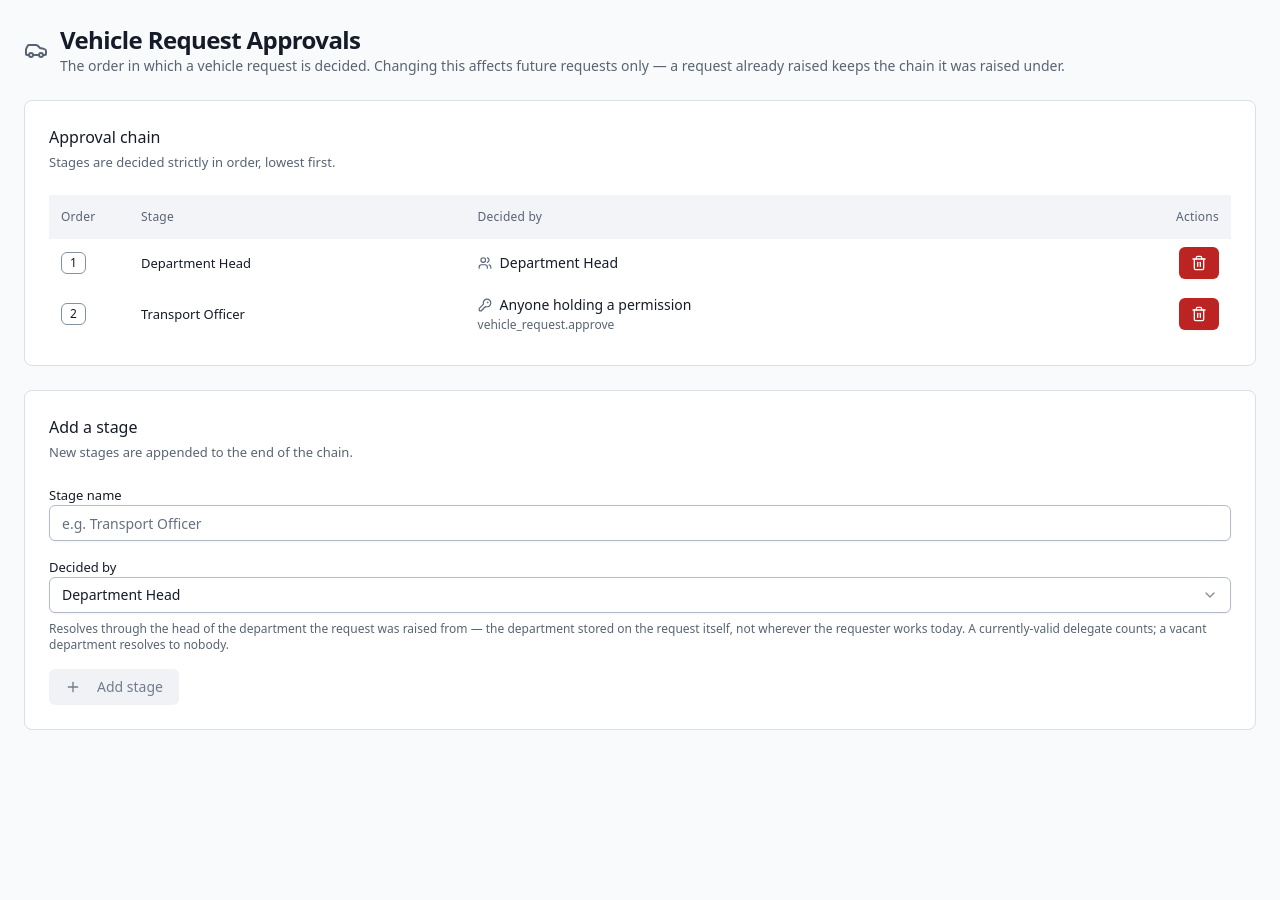
Test: Vehicle approval chain — adding a stage › asks for the permission key only when the resolver needs one
Step 1. Click the dropdown with test id "select-stage-resolver" → {"x": 121, "y": 594}, box top-left (49, 577), bottom-right (1231, 613)
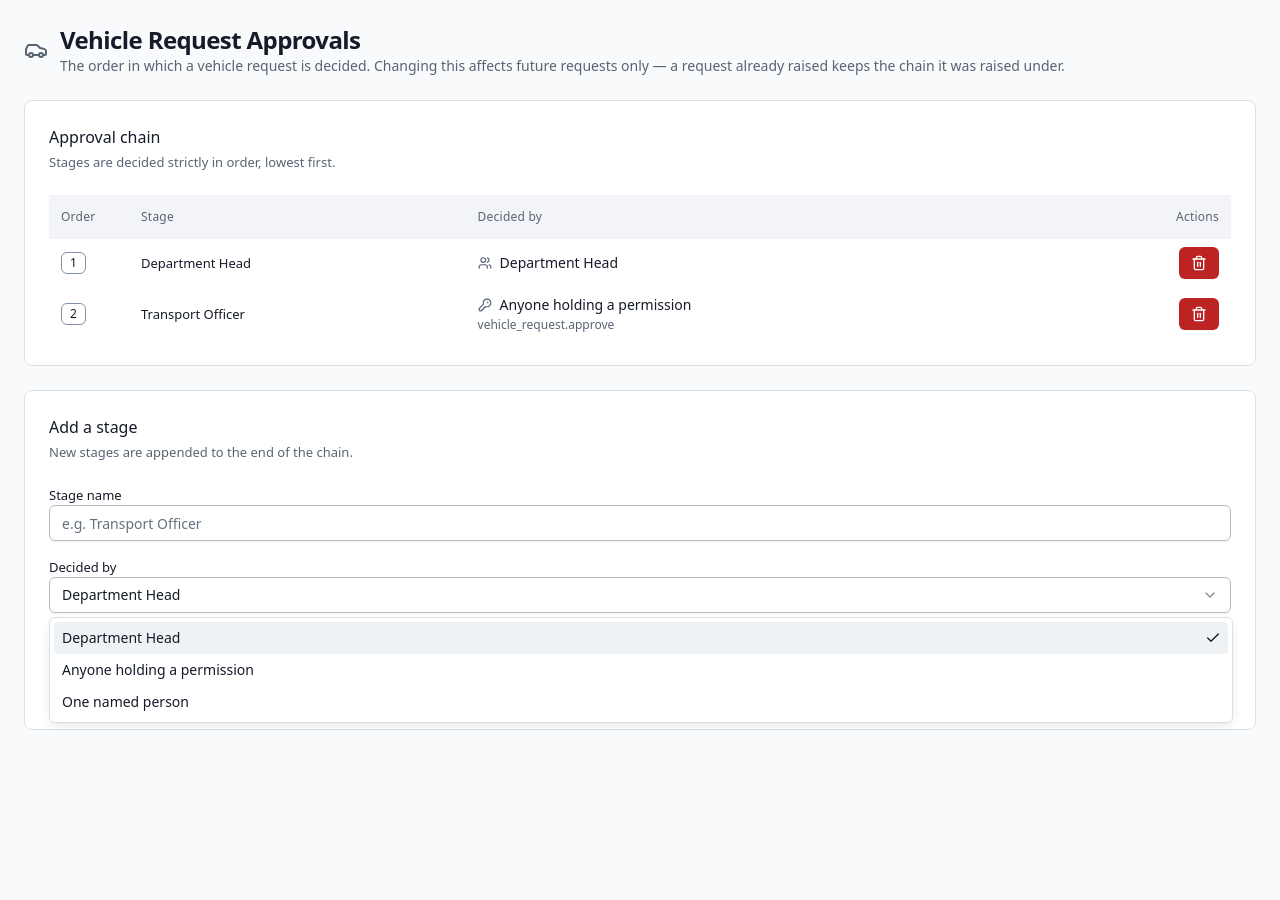
Step 2. Click the option "Anyone holding a permission" → {"x": 158, "y": 670}, box top-left (62, 660), bottom-right (254, 679)
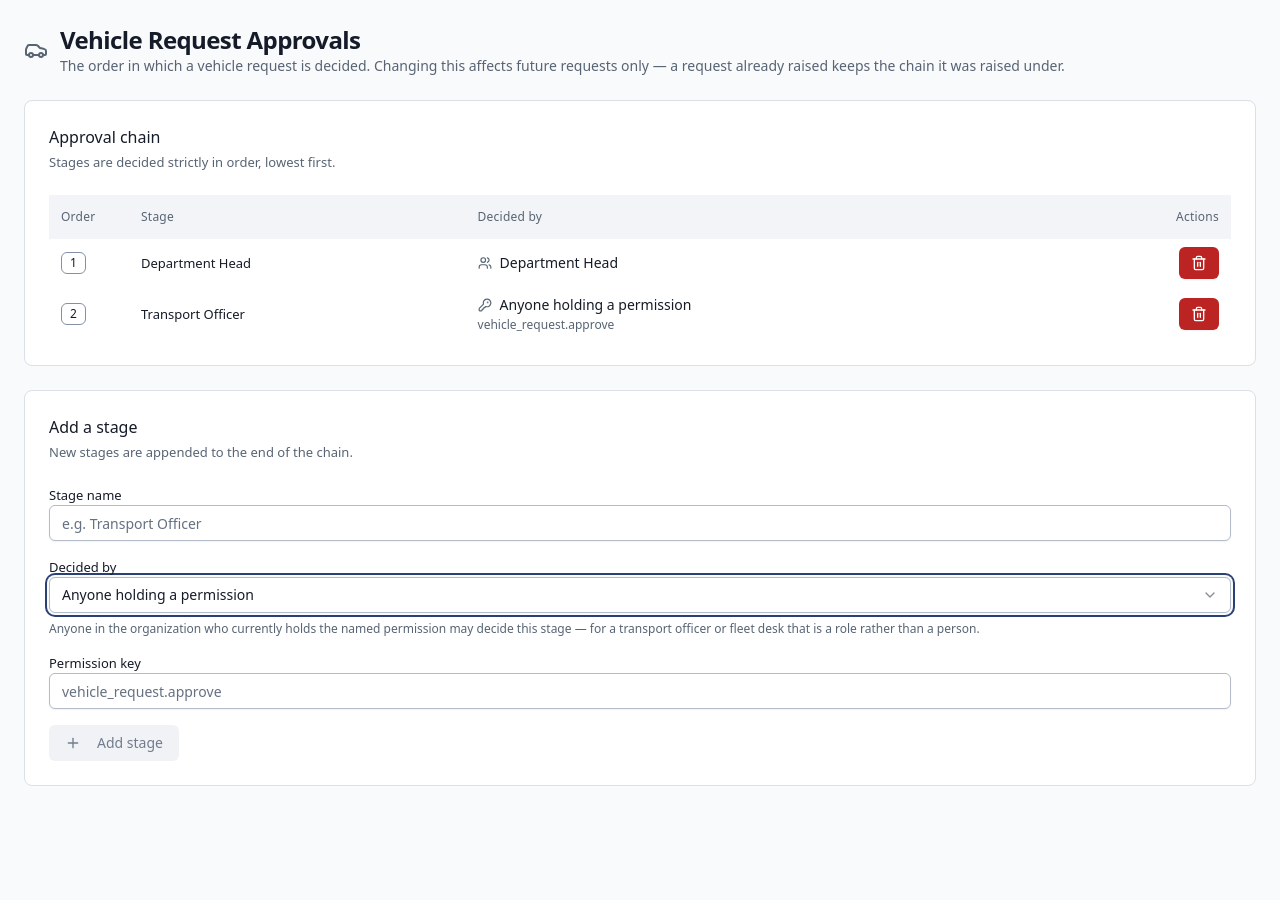
Expected: the button with test id "button-add-stage" is disabled, top-left (49, 725), bottom-right (179, 761)
Expected: the field with test id "input-stage-permission-key" is shown, top-left (49, 673), bottom-right (1231, 709)
